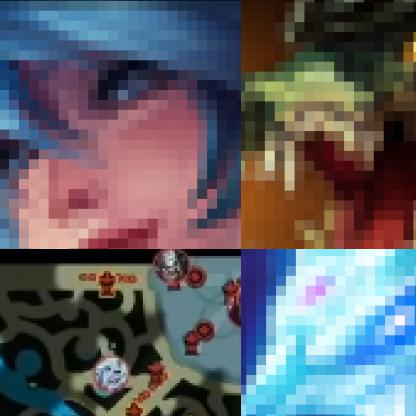Anivia: (241, 249, 415, 415)
Renekton: (241, 0, 415, 248)
Sona: (0, 0, 240, 248)
Tryndamere: (154, 249, 193, 285)
Viego: (92, 354, 132, 392)
